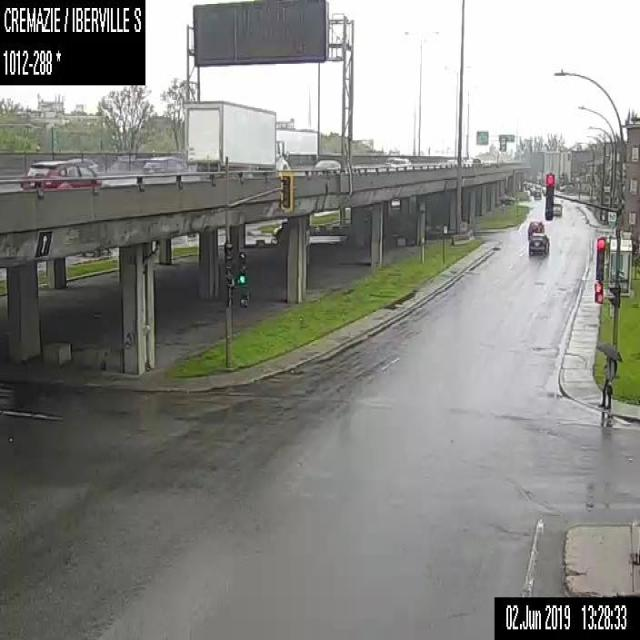pedestrian: (595, 338, 622, 406)
vehicle: (184, 99, 291, 180), (21, 159, 101, 188), (275, 126, 318, 160), (143, 155, 184, 181), (109, 157, 148, 172), (528, 231, 549, 255), (312, 158, 341, 175), (68, 156, 99, 171), (389, 157, 412, 169), (527, 220, 544, 234), (384, 155, 399, 167), (552, 201, 561, 215), (444, 158, 458, 166), (524, 180, 532, 190), (471, 156, 480, 164), (464, 158, 472, 165), (528, 187, 536, 194), (534, 190, 540, 197), (535, 184, 541, 190)
